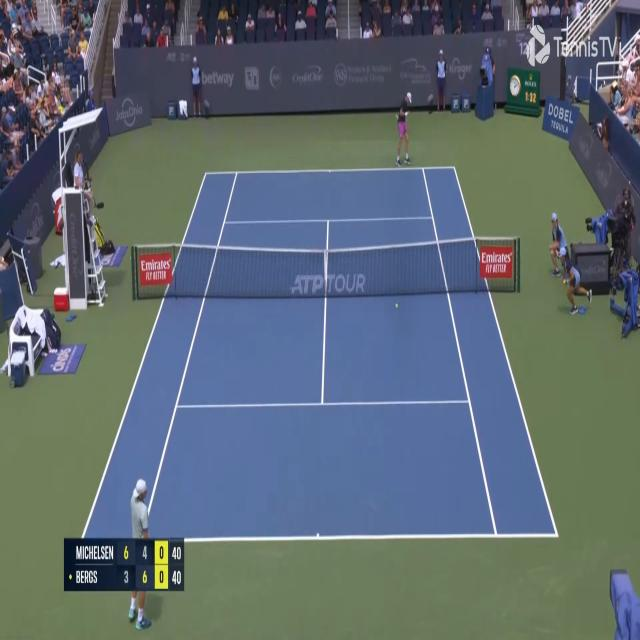tennis-player: (125, 476, 156, 633), (394, 92, 414, 168)
